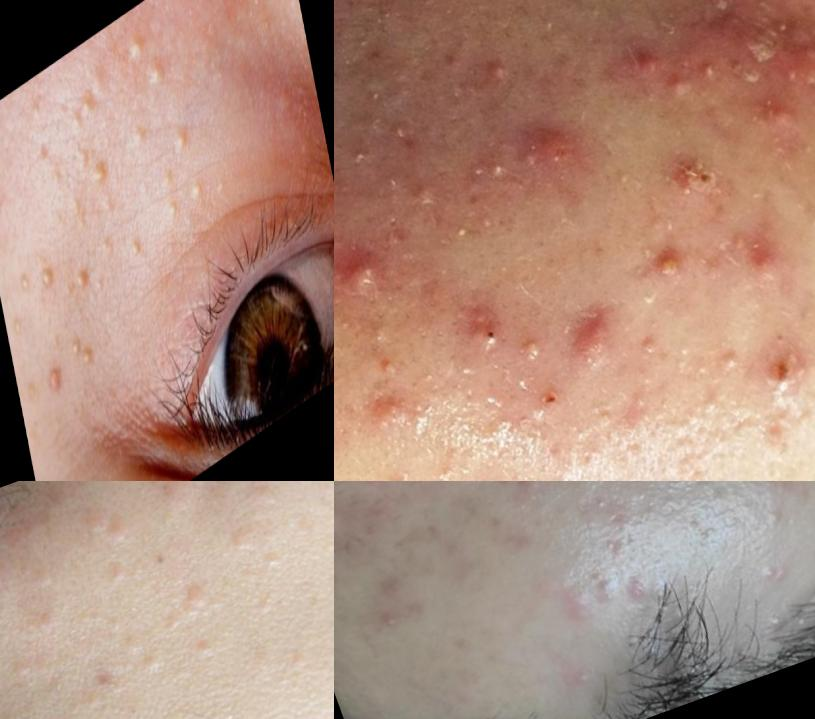flat_wart: (170, 569, 224, 627), (66, 499, 124, 550), (150, 482, 221, 523), (223, 512, 272, 551), (236, 482, 293, 509)
milium: (98, 139, 250, 295), (60, 76, 117, 210), (119, 1, 182, 107), (152, 109, 208, 183), (122, 95, 159, 161), (70, 325, 99, 399), (45, 348, 72, 417), (72, 240, 99, 305), (39, 249, 62, 303)
papular: (495, 94, 633, 244), (716, 205, 812, 304), (351, 364, 429, 435), (621, 25, 673, 88)
purulent: (627, 217, 714, 311), (335, 219, 411, 317), (445, 281, 525, 363), (499, 309, 568, 382)
sebo-crystan-conglo: (670, 1, 815, 153), (549, 269, 650, 390), (646, 127, 739, 226), (497, 99, 601, 177)
whitehead: (467, 34, 535, 111), (695, 332, 766, 392), (606, 377, 670, 437), (619, 323, 679, 384), (434, 197, 492, 255), (757, 495, 804, 545), (375, 448, 444, 482), (424, 444, 481, 482), (623, 555, 665, 602), (474, 144, 515, 192), (746, 551, 789, 592), (343, 134, 382, 175), (375, 454, 431, 482), (105, 555, 143, 588), (259, 537, 290, 573), (191, 634, 226, 663), (136, 652, 170, 677), (106, 518, 136, 545), (116, 634, 147, 656), (1, 558, 12, 603)
